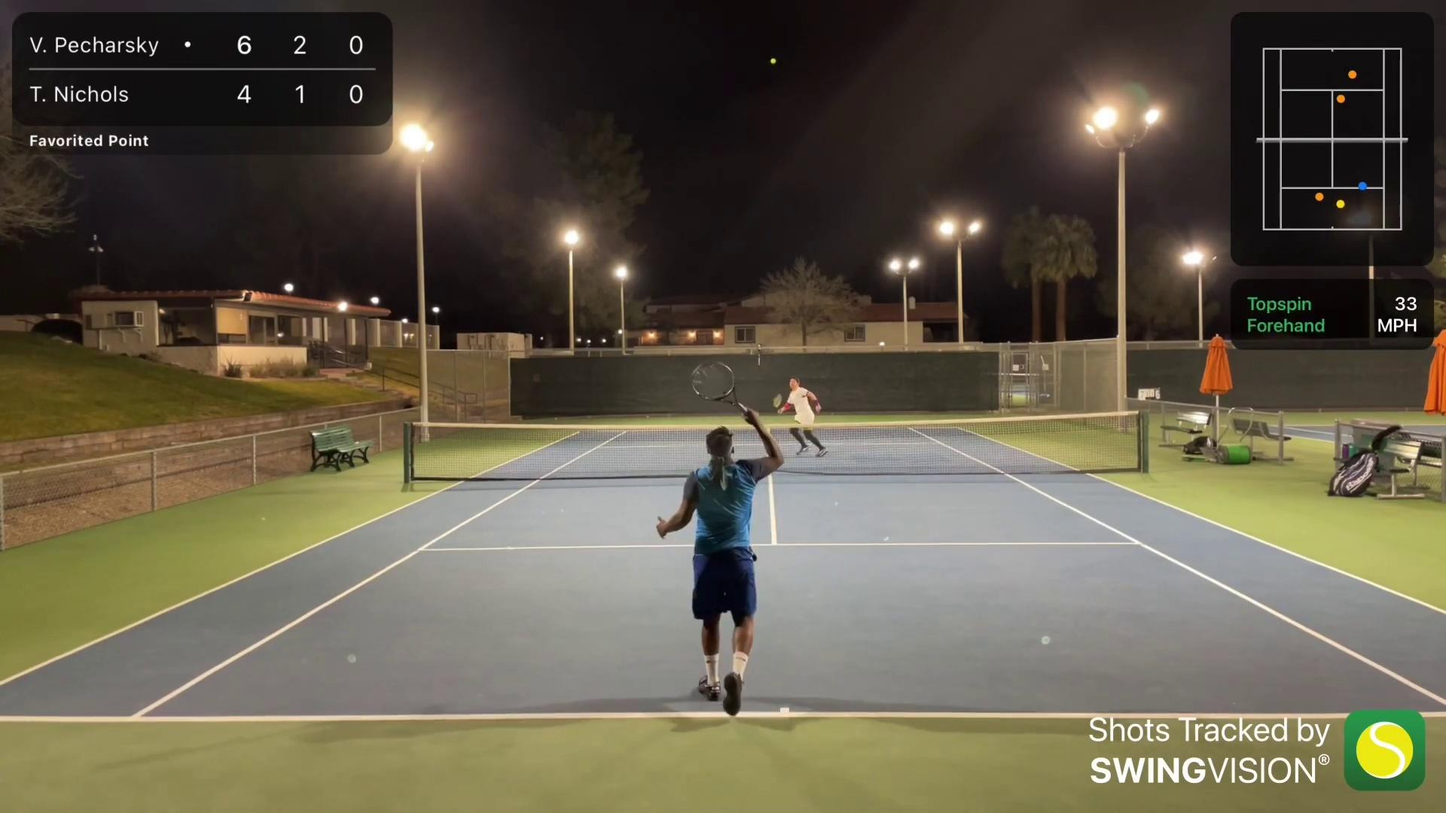ball: (770, 58, 775, 63)
